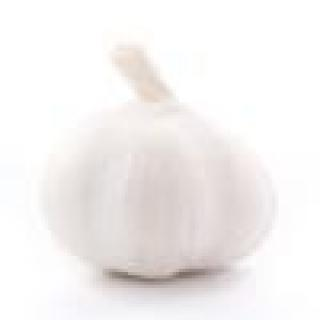Bawang Putih: (43, 33, 280, 279)
